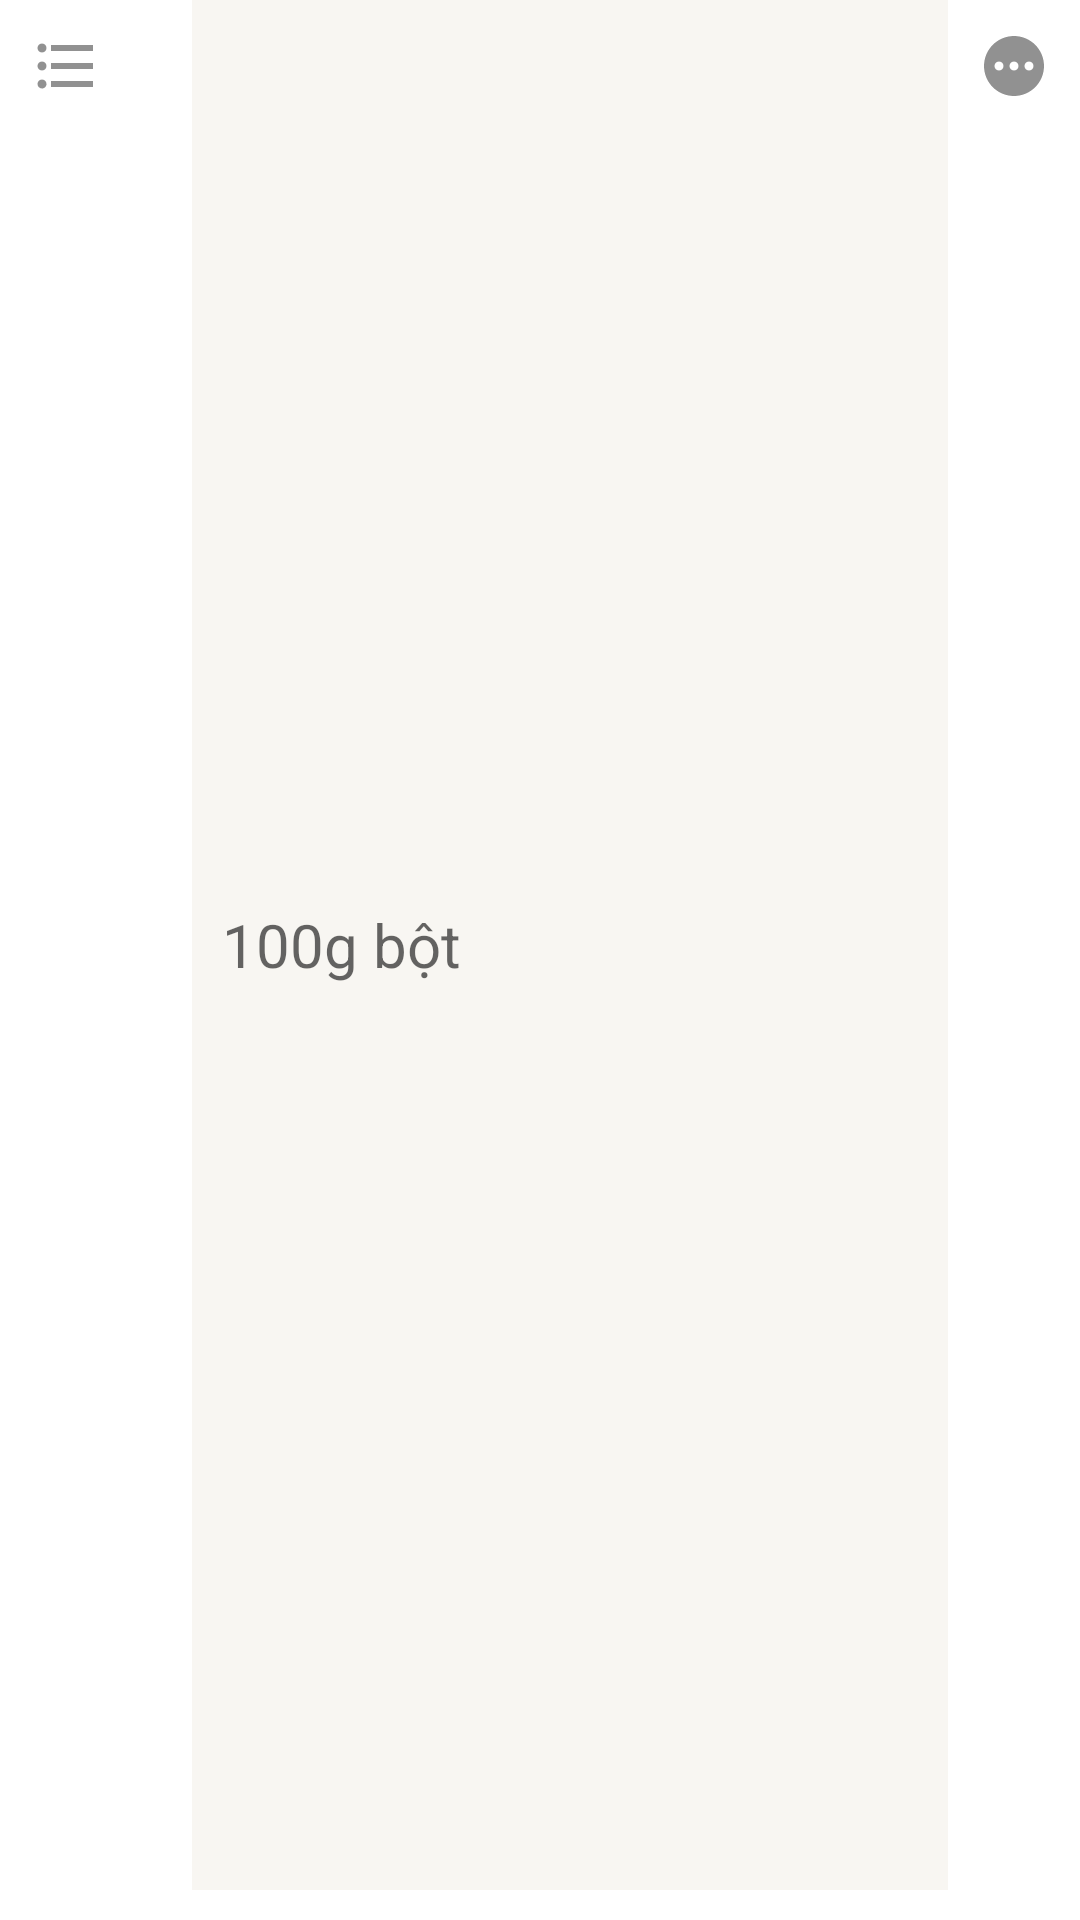

Where to tap for icons on this 1080×1920 app screen, as [x,y]:
format list bulleted: [65,66]
pending: [1014,66]
